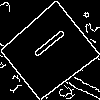I: (24, 26, 68, 66)
